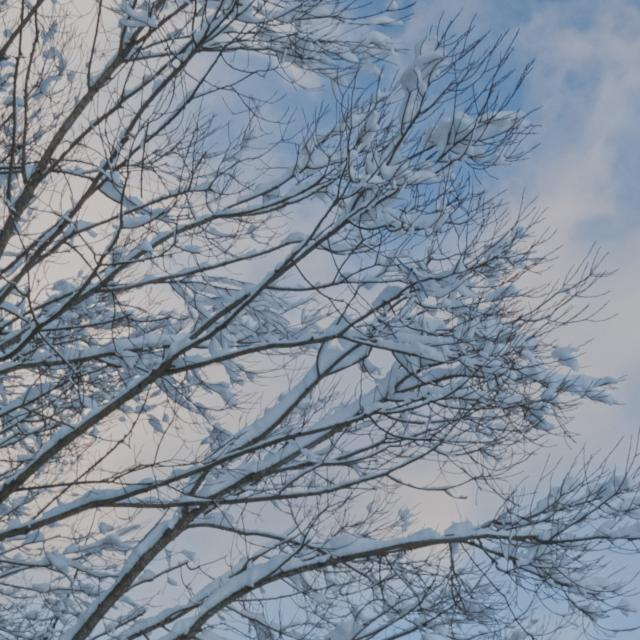Airaplan: (395, 256, 428, 299)
